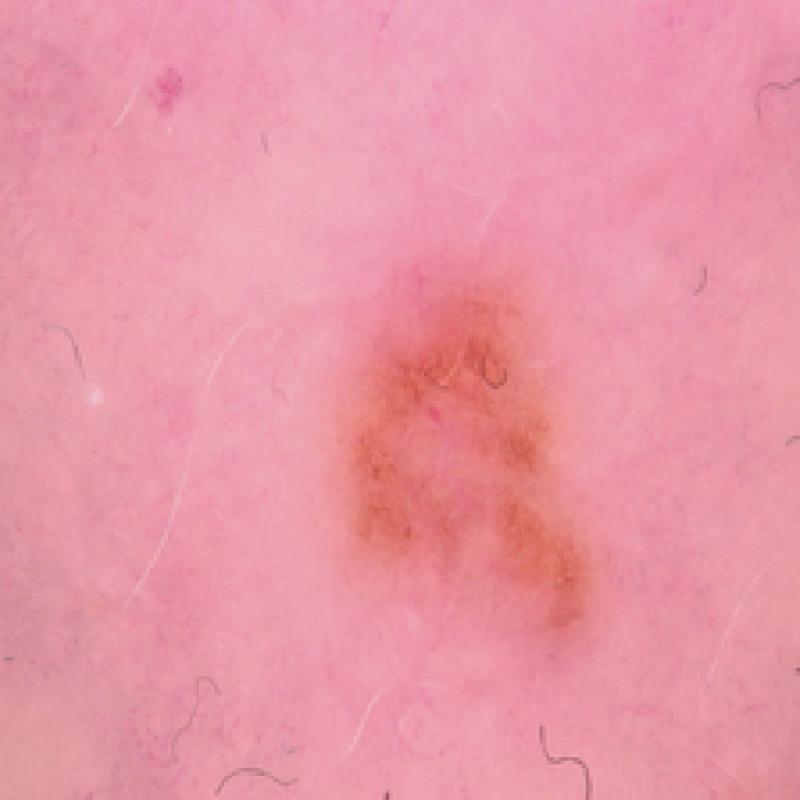benign: (310, 272, 592, 651)
